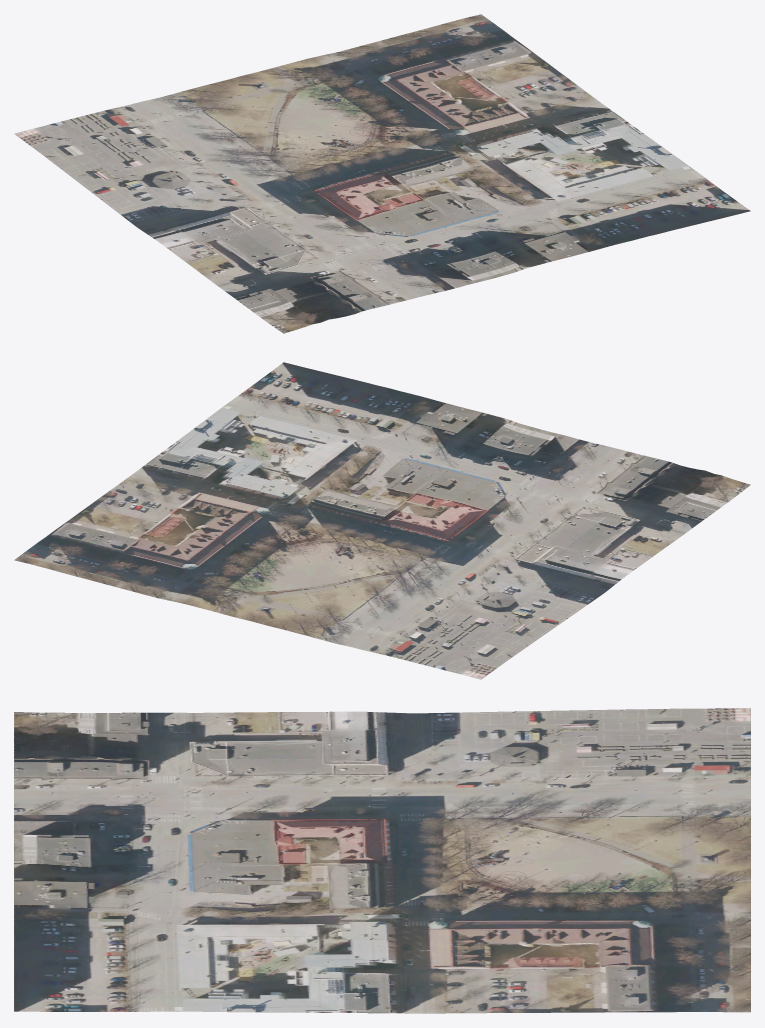
The model's file is CM_Terrain_24488206_6821227.fbx.
3 renders of one model, top to bottom at view 1: azimuth 30°, elevation 25°; view 2: azimuth 150°, elevation 25°; view 3: azimuth 270°, elevation 25°, orthographic. The views are drawn at different scales.
Parts seen in each view (by area): view 1: CM_Terrain_24488206_6821227_LOD0; view 2: CM_Terrain_24488206_6821227_LOD0; view 3: CM_Terrain_24488206_6821227_LOD0.
Part boxes in pixels (left/top/right/bottom): CM_Terrain_24488206_6821227_LOD0: left=14, top=14, right=750, bottom=333; CM_Terrain_24488206_6821227_LOD0: left=14, top=362, right=750, bottom=679; CM_Terrain_24488206_6821227_LOD0: left=14, top=708, right=750, bottom=1013.
Size of what is drawn, in the model's own units: 205 by 4.07 by 205.
